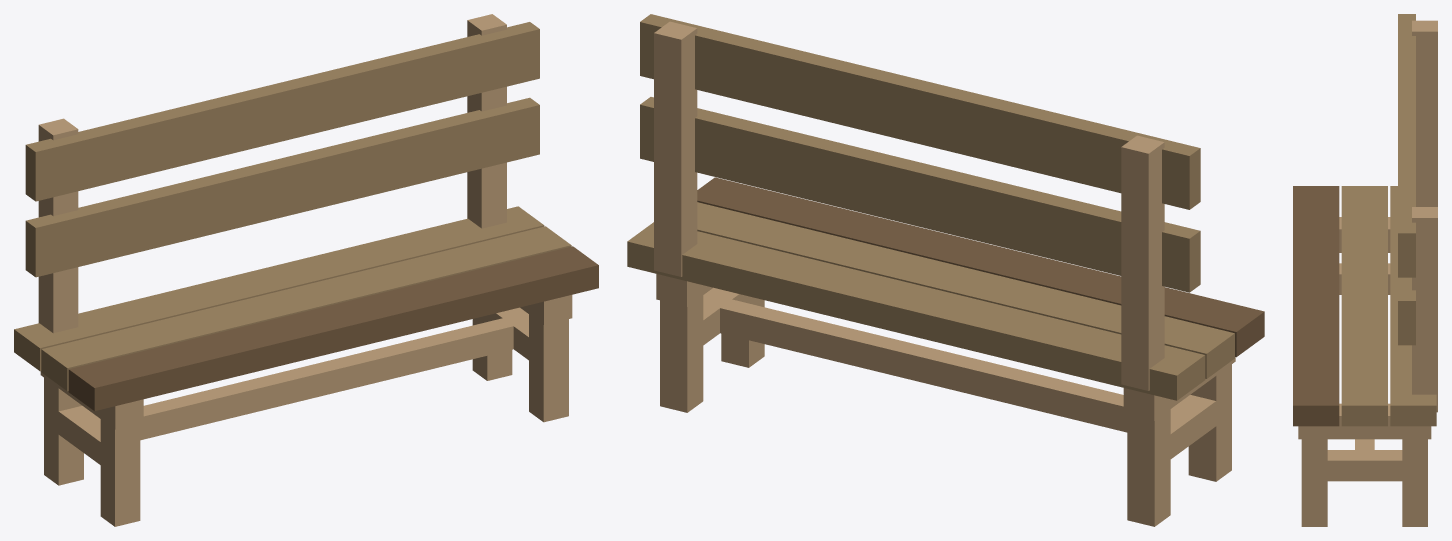
The model's file is TW_BENCH_BACKREST_A_LOD0.glb.
3 renders of one model, left to right at view 1: azimuth 30°, elevation 25°; view 2: azimuth 150°, elevation 25°; view 3: azimuth 270°, elevation 25°, orthographic. The views are drawn at different scales.
Parts seen in each view (by area): view 1: TW_BENCH_BACKREST_A_LOD0; view 2: TW_BENCH_BACKREST_A_LOD0; view 3: TW_BENCH_BACKREST_A_LOD0.
Boxes of the visible parts, <box> form: TW_BENCH_BACKREST_A_LOD0: <box>14,14,598,526</box>; TW_BENCH_BACKREST_A_LOD0: <box>627,14,1264,526</box>; TW_BENCH_BACKREST_A_LOD0: <box>1293,14,1437,526</box>.
Size of the model in its own units: 1.6 by 1.05 by 0.446.
1 material, 1 textured.
